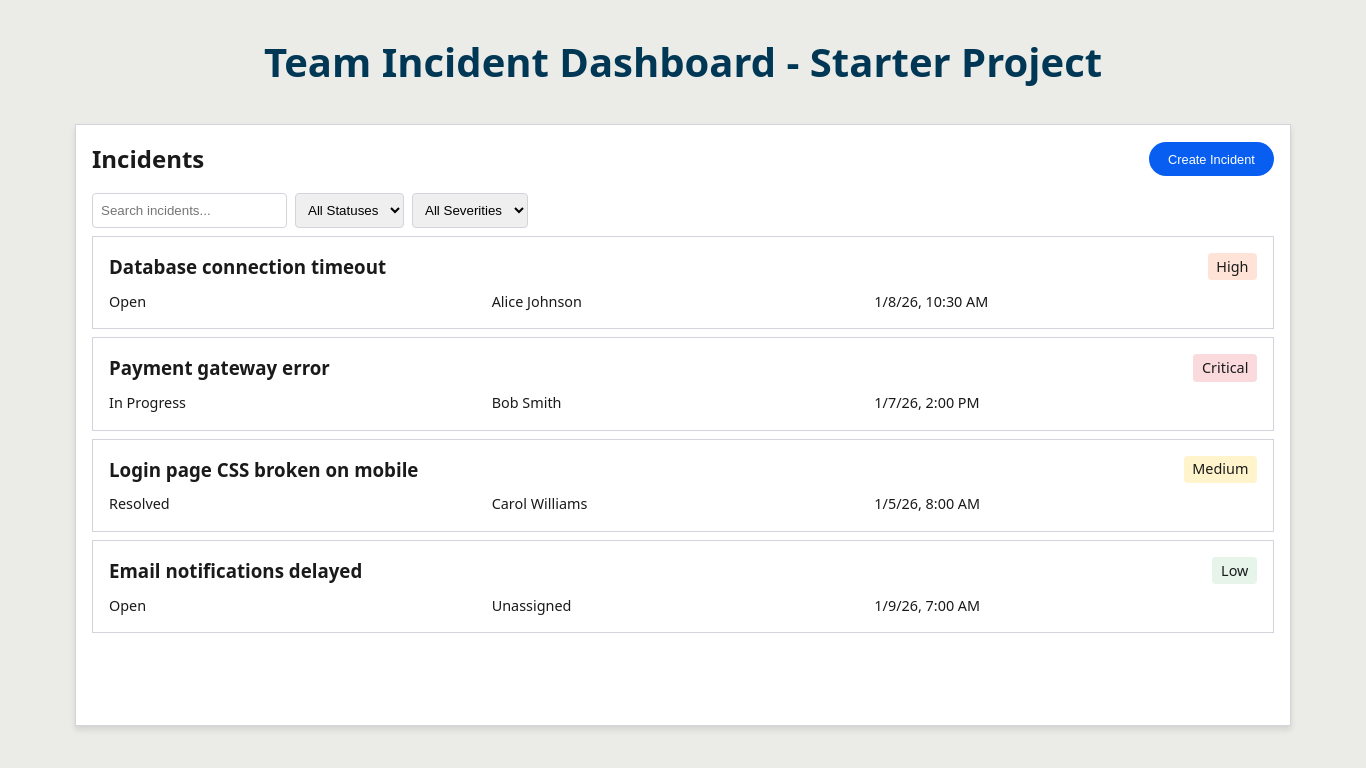
it: App › creates a new incident and displays it in the list
Click the button with test id "create-incident-button" at (1211, 159), box [1149, 142, 1274, 176]
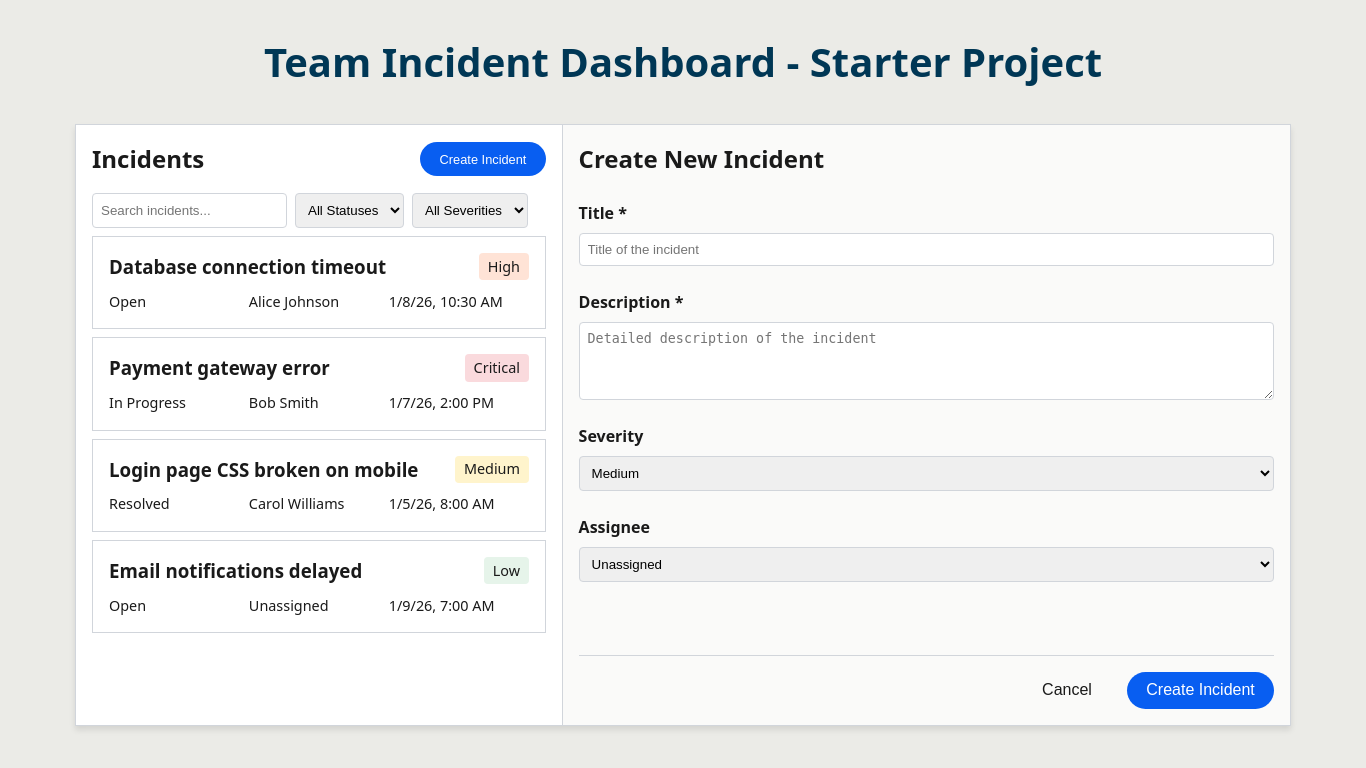
Type "Test Incident" into the field labelled "Title *" at (926, 250), box [579, 233, 1274, 266]
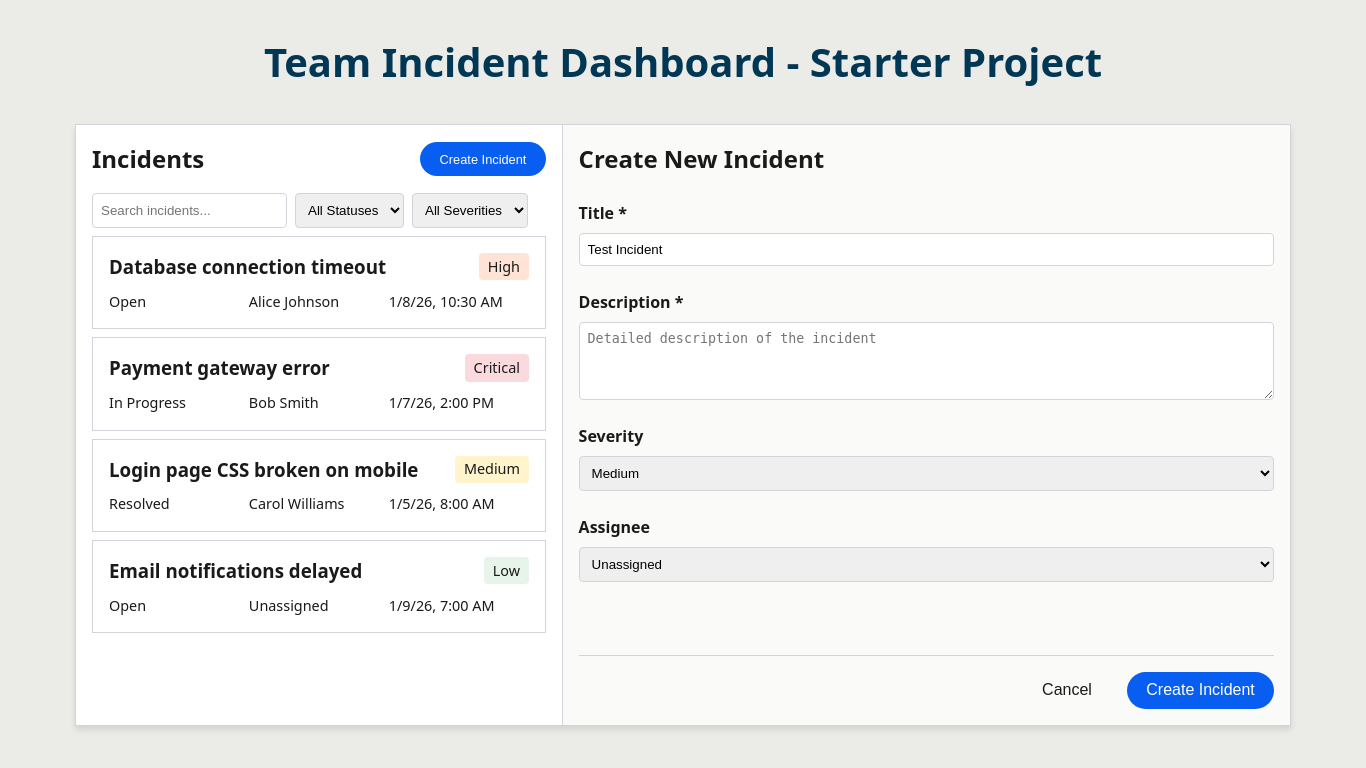
Type "Test incident description" into the text box labelled "Description *" at (926, 361), box [579, 322, 1274, 400]
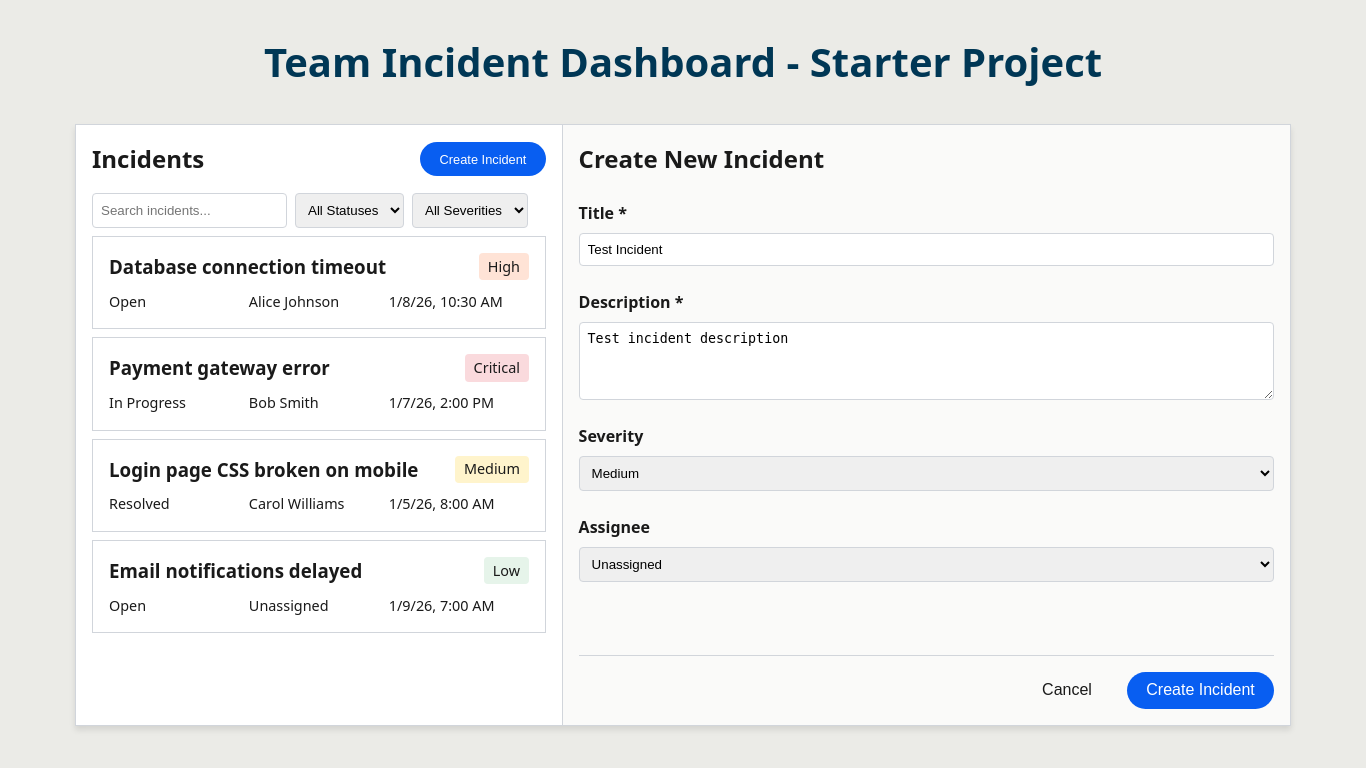
Click the button with test id "submit-incident-button" at (1201, 690), box [1127, 672, 1274, 709]
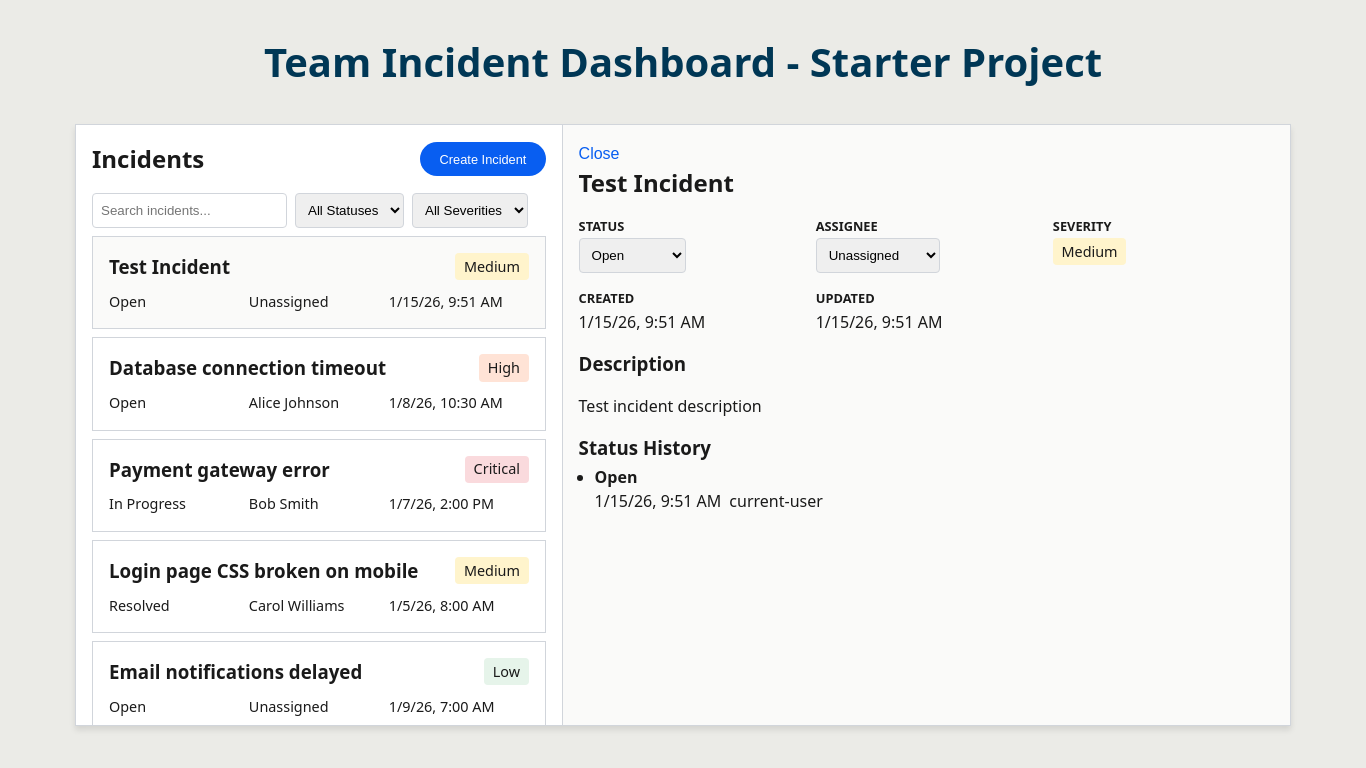
Check: the heading "Test Incident" below "Incidents" is shown, box [109, 254, 230, 279]
